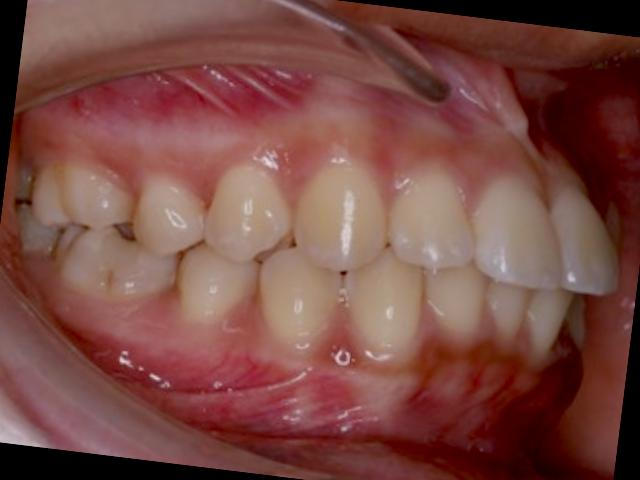canine class I: (248, 134, 443, 376)
molar class III 1/2: (7, 159, 183, 326)
